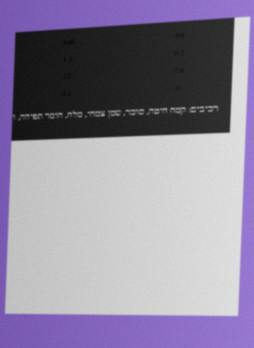carbs: (60, 89, 73, 99)
energy: (61, 37, 76, 48)
fat: (62, 72, 72, 81)
protein: (61, 54, 74, 65)
